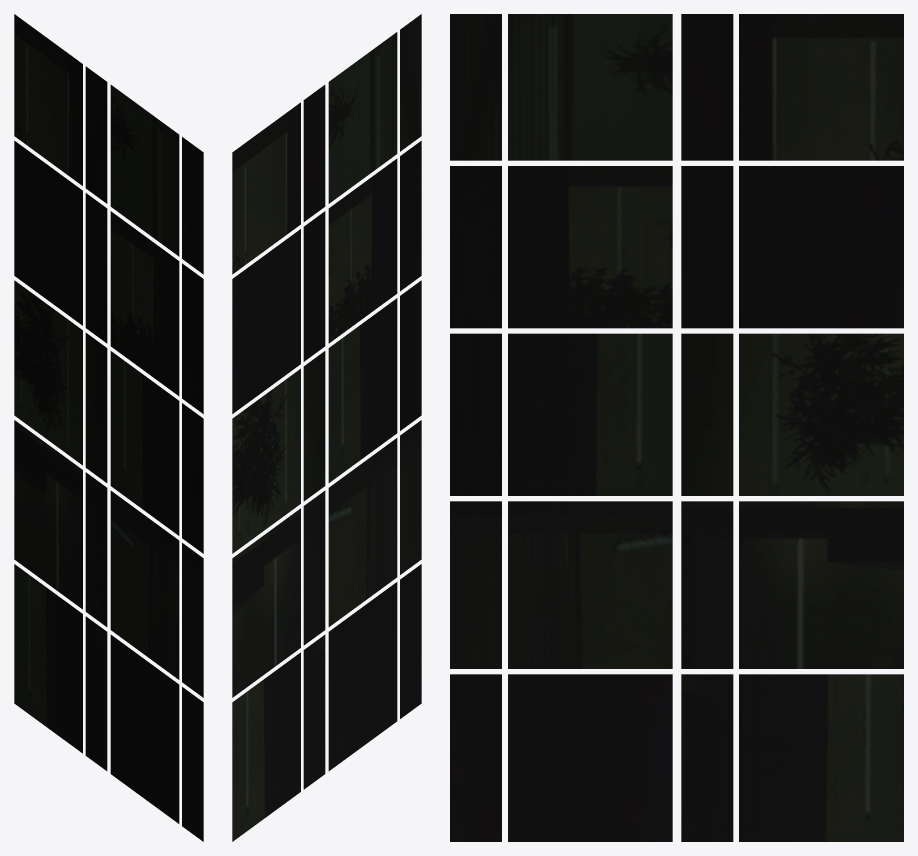
The model's file is cus_hcm_window_glows2.glb.
3 views of the same model, side by side, from view 1: azimuth 30°, elevation 25°; view 2: azimuth 150°, elevation 25°; view 3: azimuth 270°, elevation 25° (orthographic). The views are drawn at different scales.
Visible parts, largest first — view 1: g_3; view 2: g_3; view 3: g_3.
Part boxes in pixels (x1,y1,x2,y2): g_3: (14, 14, 203, 841); g_3: (232, 14, 421, 841); g_3: (450, 14, 903, 841).
Size of the model in its own units: 0 by 15.8 by 7.85.
1 material, 1 textured.
